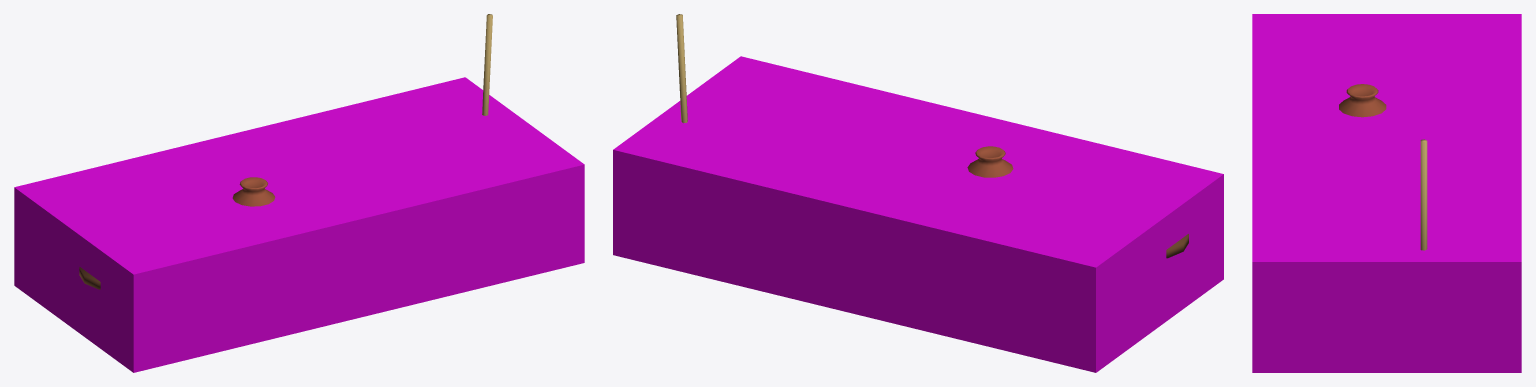
Rendered from PRP_Household_Set_A.glb.
The picture shows the model from 3 angles, left to right: view 1: azimuth 30°, elevation 25°; view 2: azimuth 150°, elevation 25°; view 3: azimuth 270°, elevation 25°; orthographic projection. The views are drawn at different scales.
Visible parts, largest first — view 1: COL_Group, PRP_Household_Set_A_Mesh; view 2: COL_Group, PRP_Household_Set_A_Mesh; view 3: COL_Group, PRP_Household_Set_A_Mesh.
Part boxes in pixels (box(x1,y1,x2,y2)): COL_Group: box(14, 77, 584, 372); PRP_Household_Set_A_Mesh: box(79, 14, 492, 289); COL_Group: box(613, 56, 1223, 372); PRP_Household_Set_A_Mesh: box(676, 14, 1188, 258); COL_Group: box(1252, 14, 1521, 372); PRP_Household_Set_A_Mesh: box(1339, 84, 1427, 250).
Bounding box in the file's own units: 2.43 × 1.01 × 1.1.
